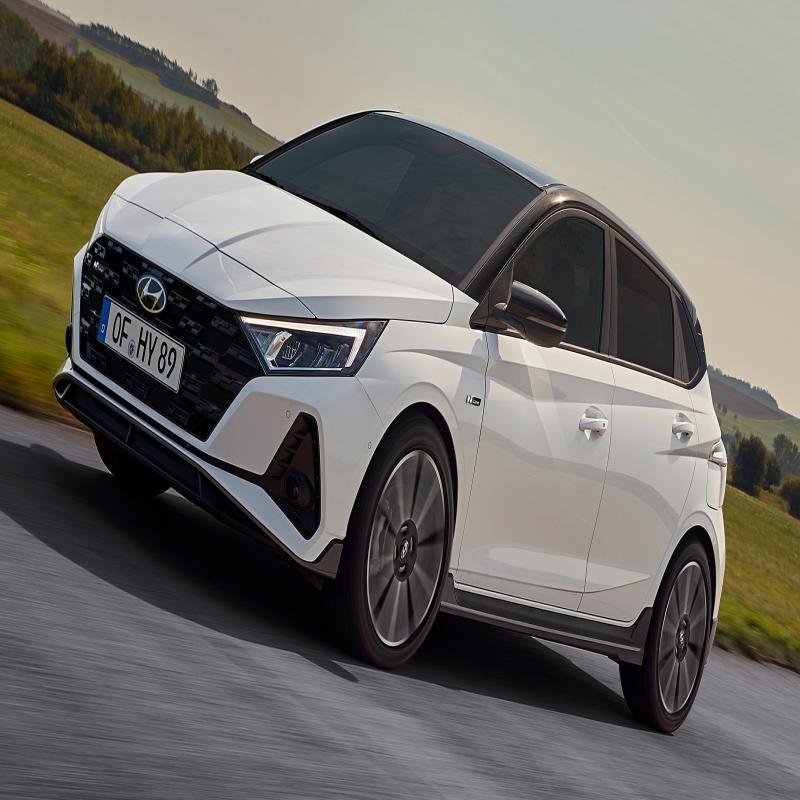car: (56, 34, 739, 759)
